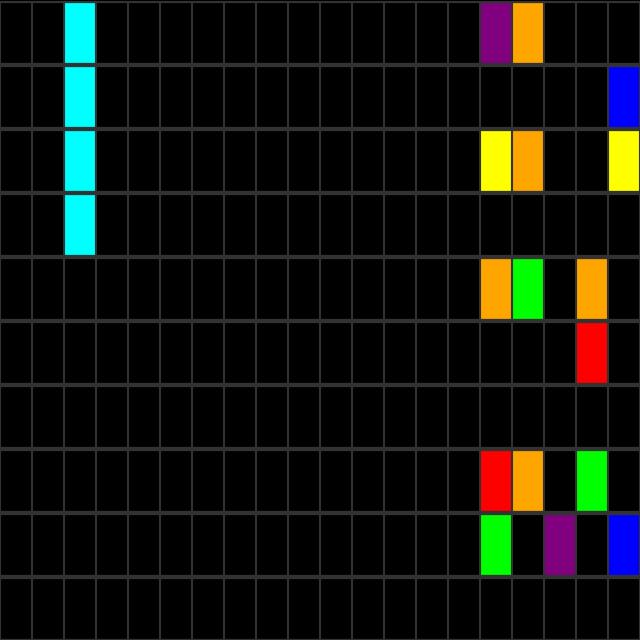Tetrimino_Z: (64, 0, 93, 252)
